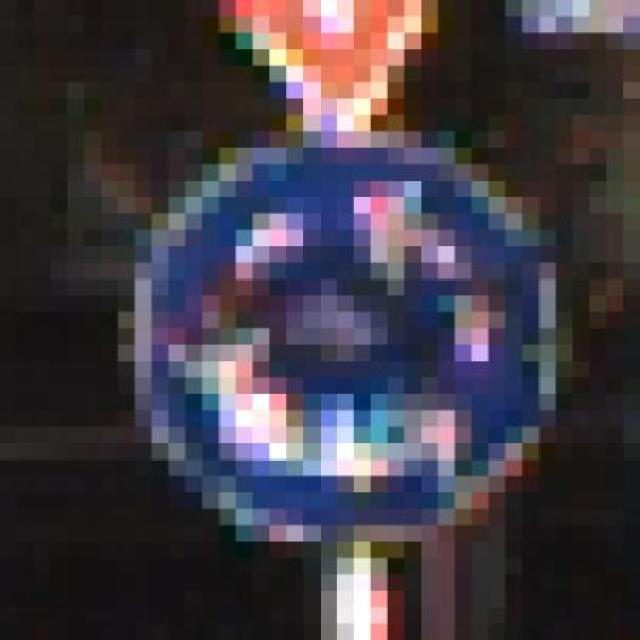Round-About: (84, 81, 624, 558)
